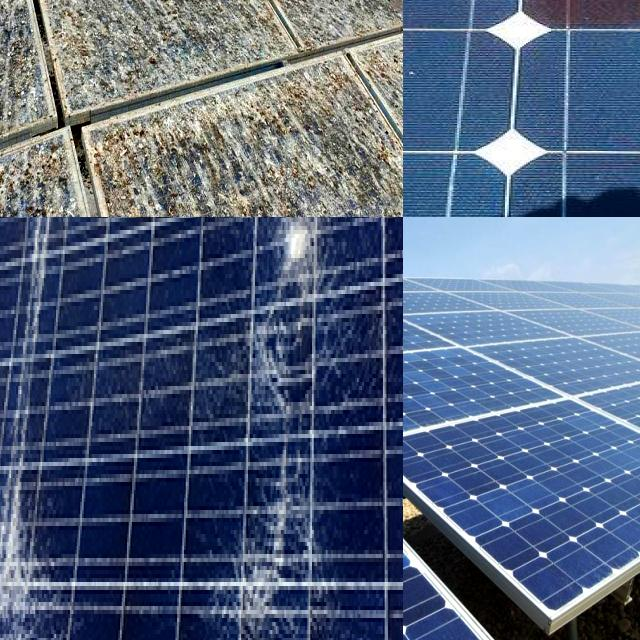bird: (235, 105, 330, 204), (88, 133, 190, 217), (85, 0, 158, 80), (169, 0, 252, 43), (0, 171, 57, 217), (0, 15, 32, 96), (351, 168, 403, 217), (278, 0, 348, 28), (55, 0, 132, 20), (0, 0, 22, 19)
crack: (403, 316, 574, 468), (403, 507, 565, 640), (403, 371, 533, 531), (449, 459, 613, 559)
hotspot: (215, 473, 327, 640), (255, 217, 347, 375), (0, 448, 56, 640), (22, 217, 78, 301)
shadow: (480, 0, 640, 68)
